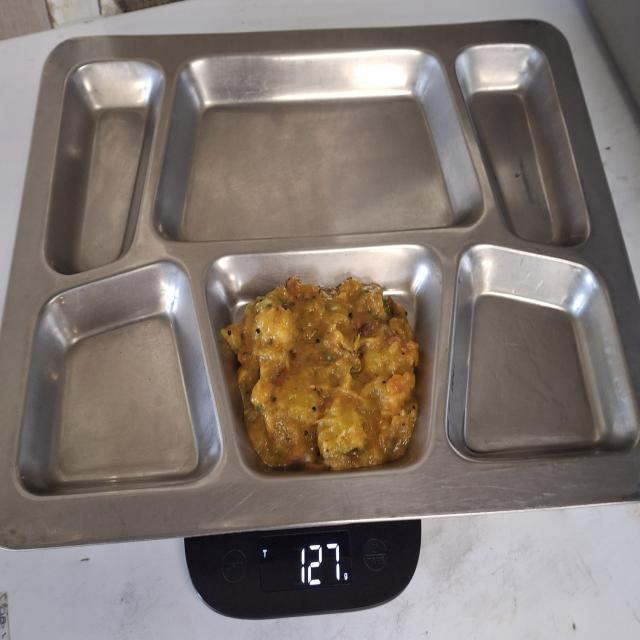Pumpkin Sabji: (218, 272, 422, 476)
